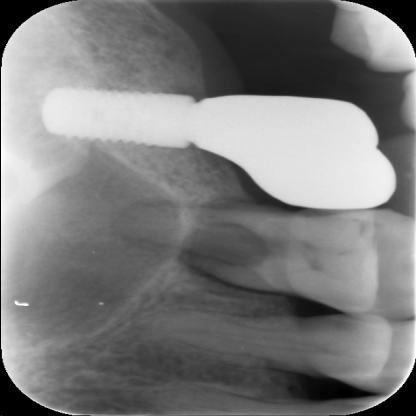ITI: (42, 82, 200, 158)
